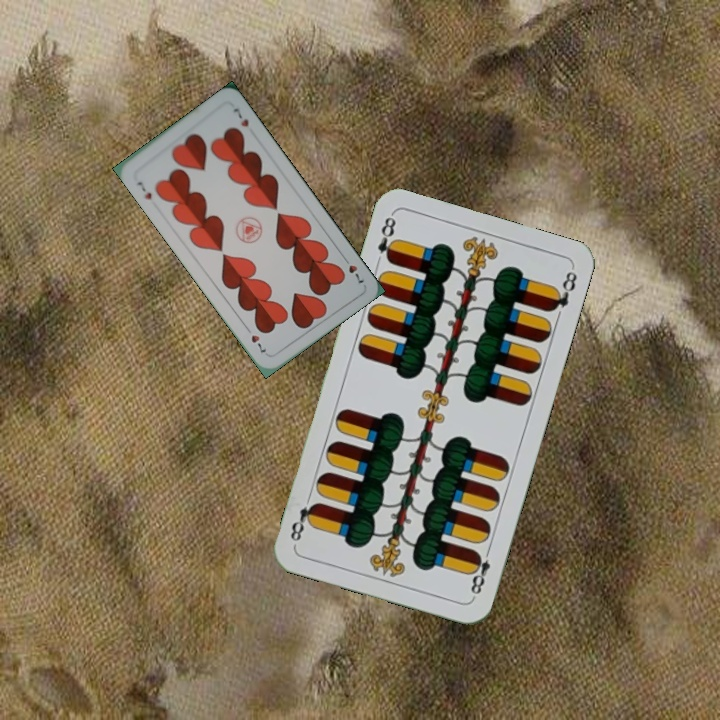E8: (466, 543, 494, 600), (373, 211, 400, 265)
H7: (338, 252, 367, 286), (133, 177, 154, 202)
